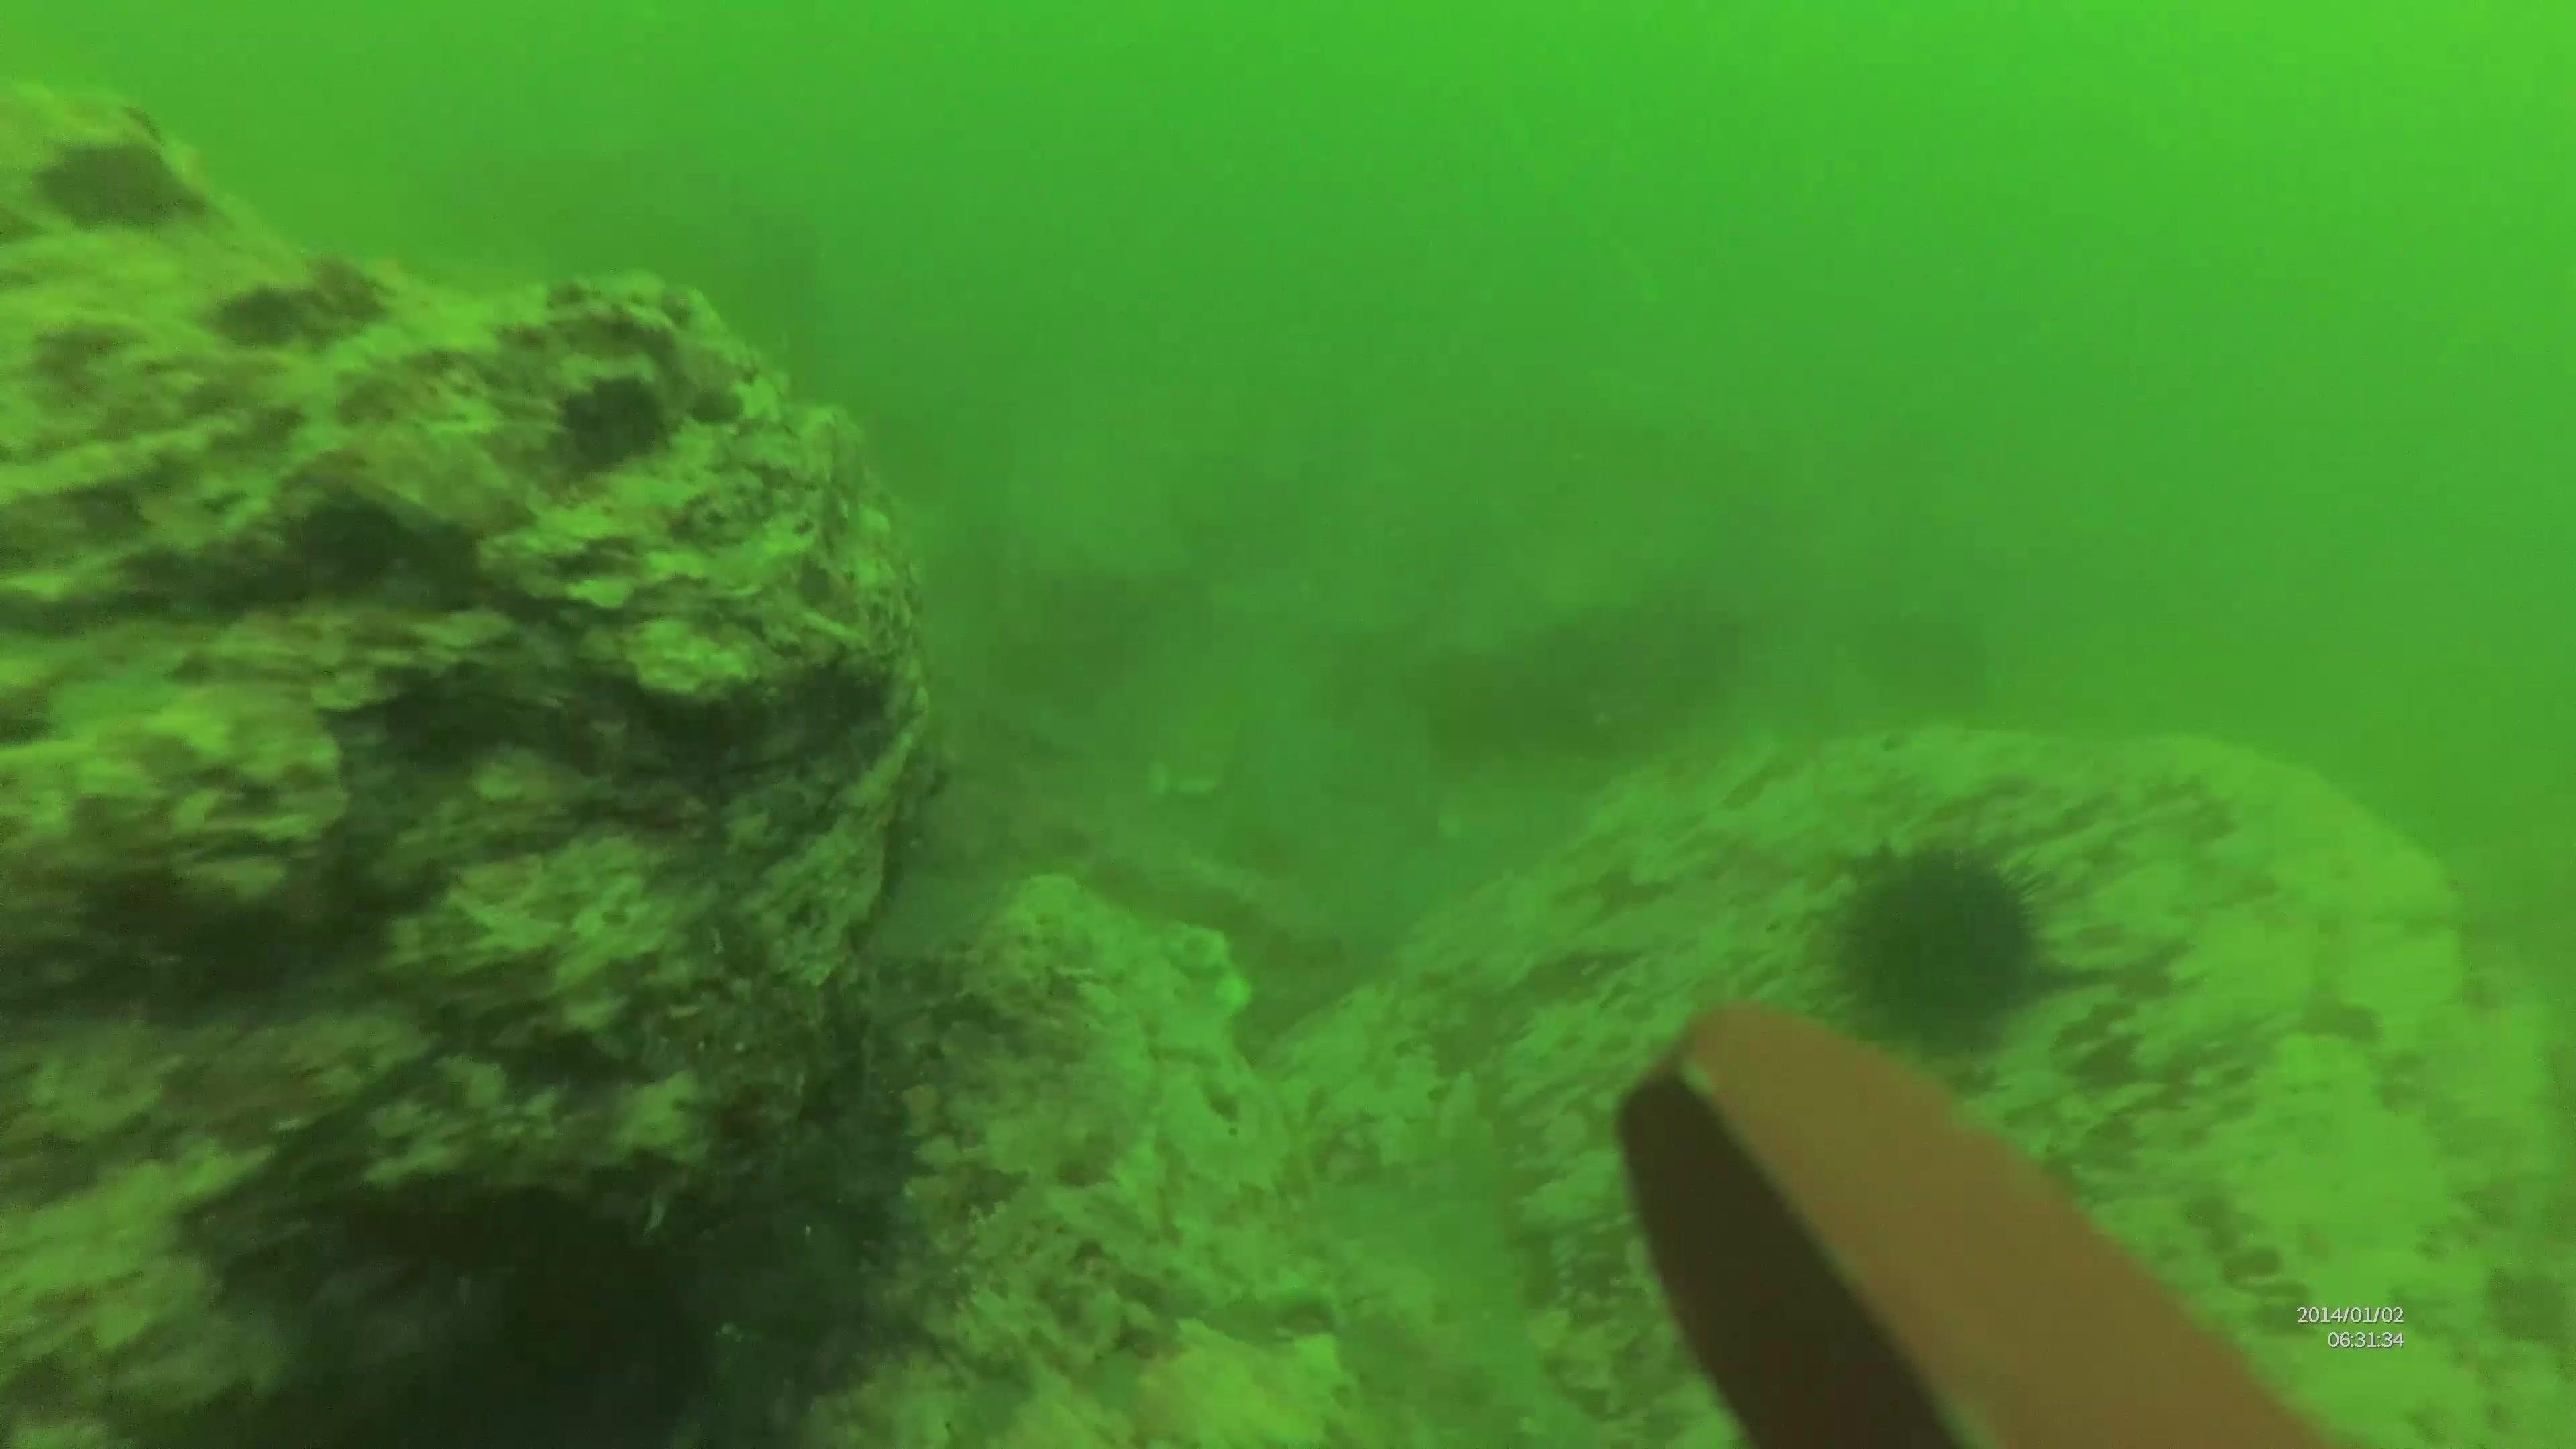echinus: (1812, 826, 2066, 1056)
